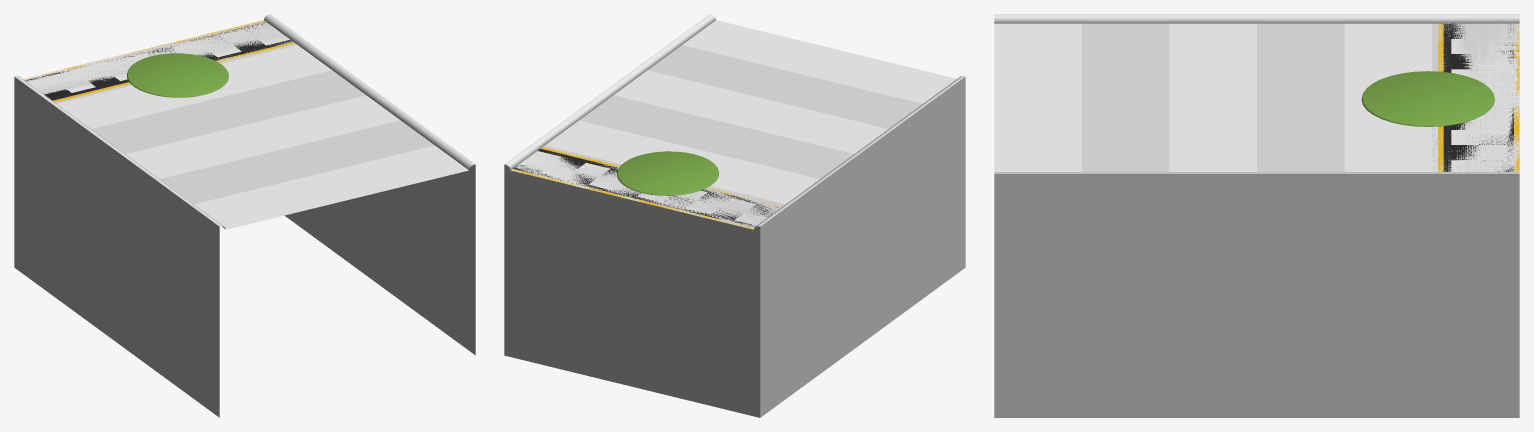
File: dr_platforms.fbx
The picture shows the model from 3 angles, left to right: view 1: azimuth 30°, elevation 25°; view 2: azimuth 150°, elevation 25°; view 3: azimuth 270°, elevation 25°; orthographic projection. The views are drawn at different scales.
Parts seen in each view (by area): view 1: dragons_platform, dragons_platform_fightplatform, dragons_platform_main_fightplatform, dragons_platform_ending; view 2: dragons_platform, dragons_platform_main_fightplatform, dragons_platform_ending, dragons_platform_fightplatform; view 3: dragons_platform, dragons_platform_fightplatform, dragons_platform_ending, dragons_platform_main_fightplatform.
Part boxes in pixels (bbox=[...]): dragons_platform: bbox=[14, 14, 475, 417]; dragons_platform_fightplatform: bbox=[17, 20, 320, 118]; dragons_platform_main_fightplatform: bbox=[126, 53, 228, 97]; dragons_platform_ending: bbox=[14, 14, 302, 220]; dragons_platform: bbox=[504, 14, 965, 417]; dragons_platform_main_fightplatform: bbox=[617, 151, 718, 195]; dragons_platform_ending: bbox=[508, 147, 792, 269]; dragons_platform_fightplatform: bbox=[511, 128, 814, 226]; dragons_platform: bbox=[994, 14, 1519, 417]; dragons_platform_fightplatform: bbox=[1372, 14, 1519, 417]; dragons_platform_ending: bbox=[1438, 14, 1519, 417]; dragons_platform_main_fightplatform: bbox=[1361, 71, 1494, 126].
Bounding box in the file's own units: 8.98 × 6.41 × 12.49.
